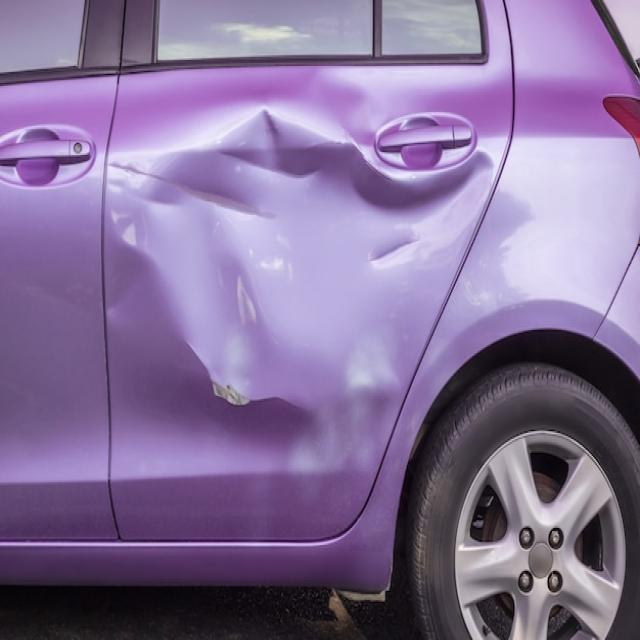dent: (9, 74, 494, 451)
scratch: (209, 375, 254, 409), (234, 272, 259, 325)
